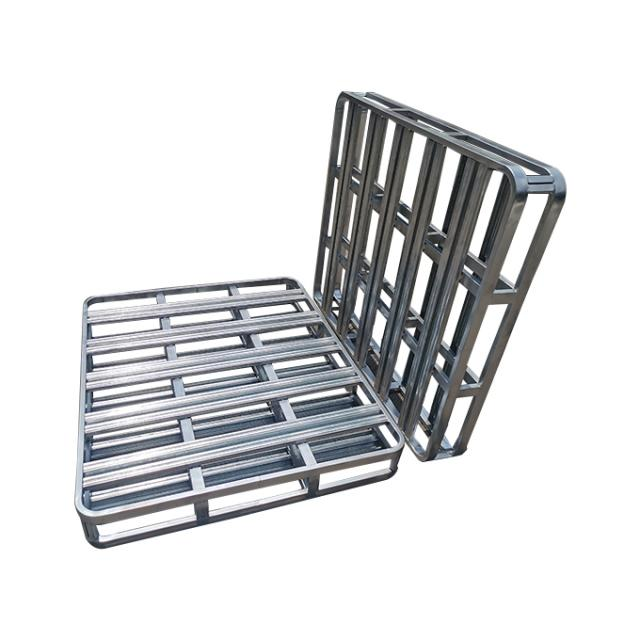Palette: (293, 74, 578, 485), (58, 269, 413, 554)
